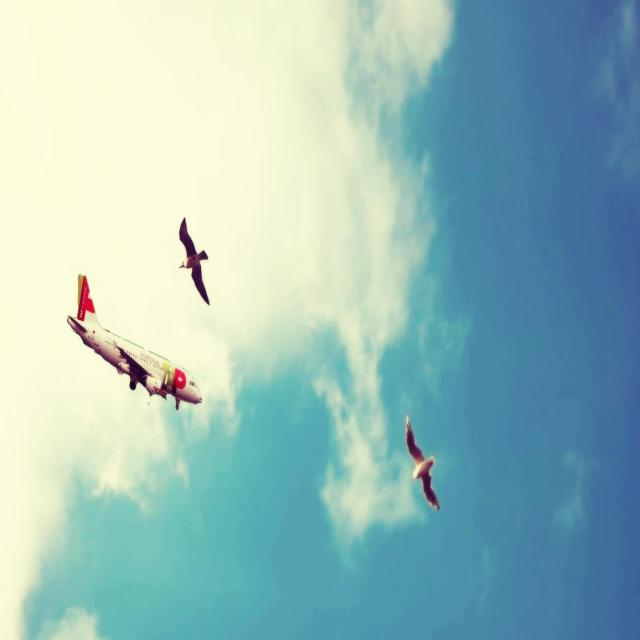airplane: (67, 272, 202, 410)
